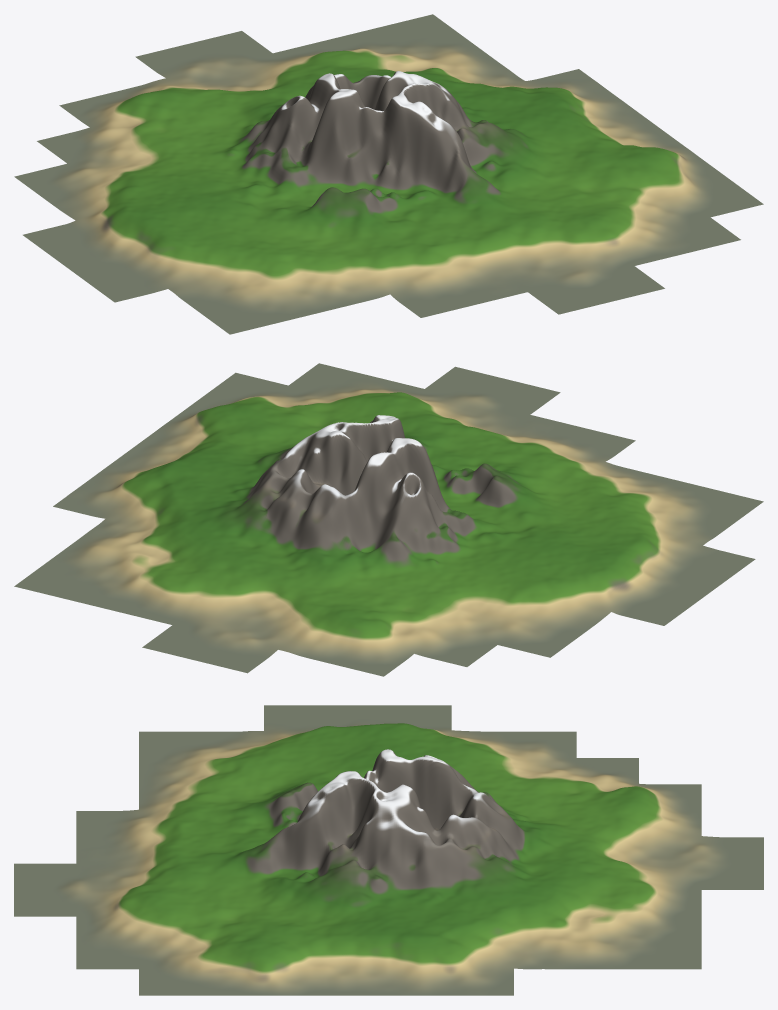
File: Island.glb
3 renders of one model, top to bottom at view 1: azimuth 30°, elevation 25°; view 2: azimuth 150°, elevation 25°; view 3: azimuth 270°, elevation 25°, orthographic. The views are drawn at different scales.
Visible parts, largest first — view 1: Tile_-1_0, Tile_0_1, Tile_-2_-1, Tile_-5_1, Tile_-2_0, Tile_-2_3, Tile_0_3, Tile_1_4, Tile_-3_3, Tile_-5_0, Tile_0_2, Tile_-4_2 (+79 smaller); view 2: Tile_-1_-2, Tile_-2_-2, Tile_-2_-1, Tile_0_-1, Tile_0_-2, Tile_-5_-1, Tile_-1_-1, Tile_-2_-5, Tile_-1_-3, Tile_0_-4, Tile_-3_-5, Tile_-5_-2 (+80 smaller); view 3: Tile_1_-1, Tile_0_0, Tile_1_0, Tile_1_-2, Tile_-1_-1, Tile_0_1, Tile_4_2, Tile_2_0, Tile_4_-1, Tile_4_1, Tile_3_-2, Tile_2_-3 (+81 smaller).
Part boxes in pixels (<box>): Tile_-1_0: <box>320,90,404,192</box>; Tile_0_1: <box>404,112,485,204</box>; Tile_-2_-1: <box>236,97,319,186</box>; Tile_-5_1: <box>137,235,221,288</box>; Tile_-2_0: <box>267,121,342,208</box>; Tile_-2_3: <box>359,243,443,294</box>; Tile_0_3: <box>466,215,549,265</box>; Tile_1_4: <box>550,227,633,275</box>; Tile_-3_3: <box>306,258,389,308</box>; Tile_-5_0: <box>106,210,190,264</box>; Tile_0_2: <box>436,178,518,229</box>; Tile_-4_2: <box>222,247,305,293</box>; Tile_-1_-2: <box>317,469,399,562</box>; Tile_-2_-2: <box>370,495,452,582</box>; Tile_-2_-1: <box>400,469,482,558</box>; Tile_0_-1: <box>304,428,367,495</box>; Tile_0_-2: <box>264,469,335,538</box>; Tile_-5_-1: <box>559,557,641,611</box>; Tile_-1_-1: <box>362,438,430,506</box>; Tile_-2_-5: <box>278,616,360,663</box>; Tile_-1_-3: <box>286,529,369,590</box>; Tile_0_-4: <box>203,560,285,612</box>; Tile_-3_-5: <box>331,622,413,676</box>; Tile_-5_-2: <box>528,582,610,635</box>; Tile_1_-1: <box>389,802,451,892</box>; Tile_0_0: <box>326,771,388,848</box>; Tile_1_0: <box>326,802,388,886</box>; Tile_1_-2: <box>451,827,513,892</box>; Tile_-1_-1: <box>389,749,451,829</box>; Tile_0_1: <box>264,785,326,868</box>; Tile_4_2: <box>201,949,263,995</box>; Tile_2_0: <box>326,876,388,925</box>; Tile_4_-1: <box>389,951,451,995</box>; Tile_4_1: <box>264,949,326,995</box>; Tile_3_-2: <box>451,920,513,968</box>; Tile_2_-3: <box>514,892,576,935</box>.
Bounding box in the file's own units: 704 × 108 × 768.
1 material, 1 textured.
